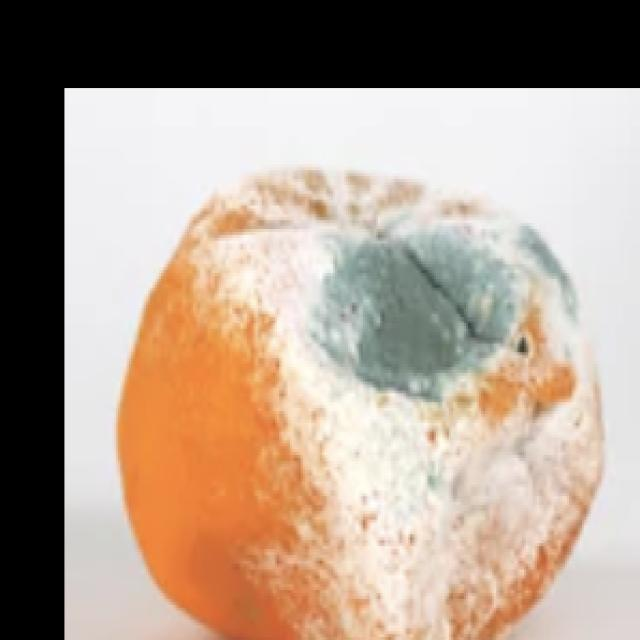sangat-busuk: (117, 168, 603, 639)
